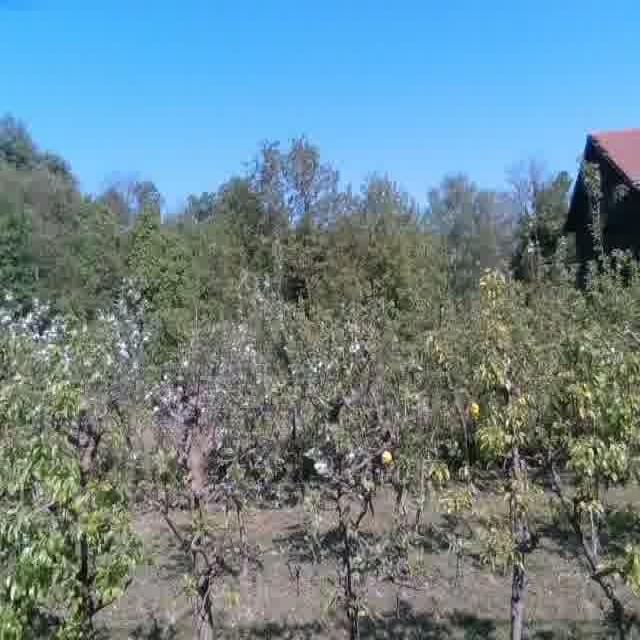yellow: (466, 398, 482, 420), (379, 447, 394, 468)
